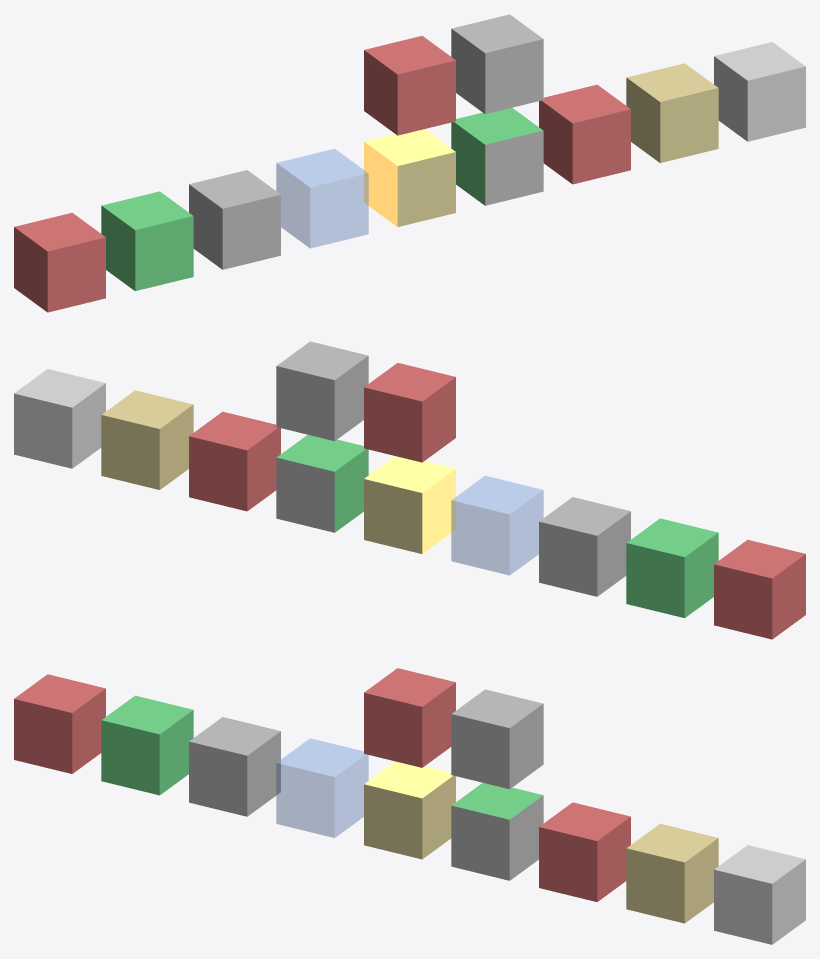
File: materialtest.gltf
The picture shows the model from 3 angles, top to bottom: view 1: azimuth 30°, elevation 25°; view 2: azimuth 150°, elevation 25°; view 3: azimuth 330°, elevation 25°; orthographic projection.
Visible parts, largest first — view 1: BoxOpaqueFull, BoxOpaqueFull.001, BoxMultiMaterial, BoxTwoSided, BoxPositionNormal, BoxAlphaMask.001, BoxAlphaBlend, BoxNoMaterial, BoxAlphaMask, BoxTexcoord0Only, BoxMixedAlpha; view 2: BoxOpaqueFull, BoxOpaqueFull.001, BoxMultiMaterial, BoxTwoSided, BoxPositionNormal, BoxAlphaMask.001, BoxAlphaBlend, BoxNoMaterial, BoxAlphaMask, BoxTexcoord0Only, BoxMixedAlpha; view 3: BoxAlphaMask.001, BoxAlphaMask, BoxNoMaterial, BoxTwoSided, BoxPositionNormal, BoxOpaqueFull, BoxTexcoord0Only, BoxOpaqueFull.001, BoxAlphaBlend, BoxMixedAlpha, BoxMultiMaterial.
Boxes of the visible parts, <box> form: BoxOpaqueFull: <box>14,212,105,312</box>; BoxOpaqueFull.001: <box>364,36,455,135</box>; BoxMultiMaterial: <box>364,129,455,226</box>; BoxTwoSided: <box>101,191,193,291</box>; BoxPositionNormal: <box>626,63,718,162</box>; BoxAlphaMask.001: <box>451,14,543,114</box>; BoxAlphaBlend: <box>276,148,368,248</box>; BoxNoMaterial: <box>714,42,805,141</box>; BoxAlphaMask: <box>189,170,280,269</box>; BoxTexcoord0Only: <box>539,84,630,184</box>; BoxMixedAlpha: <box>451,108,543,205</box>; BoxOpaqueFull: <box>714,539,805,639</box>; BoxOpaqueFull.001: <box>364,363,455,462</box>; BoxMultiMaterial: <box>364,456,455,553</box>; BoxTwoSided: <box>626,518,718,618</box>; BoxPositionNormal: <box>101,390,193,489</box>; BoxAlphaMask.001: <box>276,341,368,441</box>; BoxAlphaBlend: <box>451,475,543,575</box>; BoxNoMaterial: <box>14,369,105,468</box>; BoxAlphaMask: <box>539,497,630,596</box>; BoxTexcoord0Only: <box>189,411,280,511</box>; BoxMixedAlpha: <box>276,435,368,532</box>; BoxAlphaMask.001: <box>451,689,543,789</box>; BoxAlphaMask: <box>189,717,280,816</box>; BoxNoMaterial: <box>714,845,805,944</box>; BoxTwoSided: <box>101,695,193,795</box>; BoxPositionNormal: <box>626,823,718,923</box>; BoxOpaqueFull: <box>14,674,105,773</box>; BoxTexcoord0Only: <box>539,802,630,901</box>; BoxOpaqueFull.001: <box>364,668,455,767</box>; BoxAlphaBlend: <box>276,738,368,837</box>; BoxMixedAlpha: <box>451,783,543,880</box>; BoxMultiMaterial: <box>364,761,455,859</box>.
Bounding box in the file's own units: 26 × 5 × 2.
